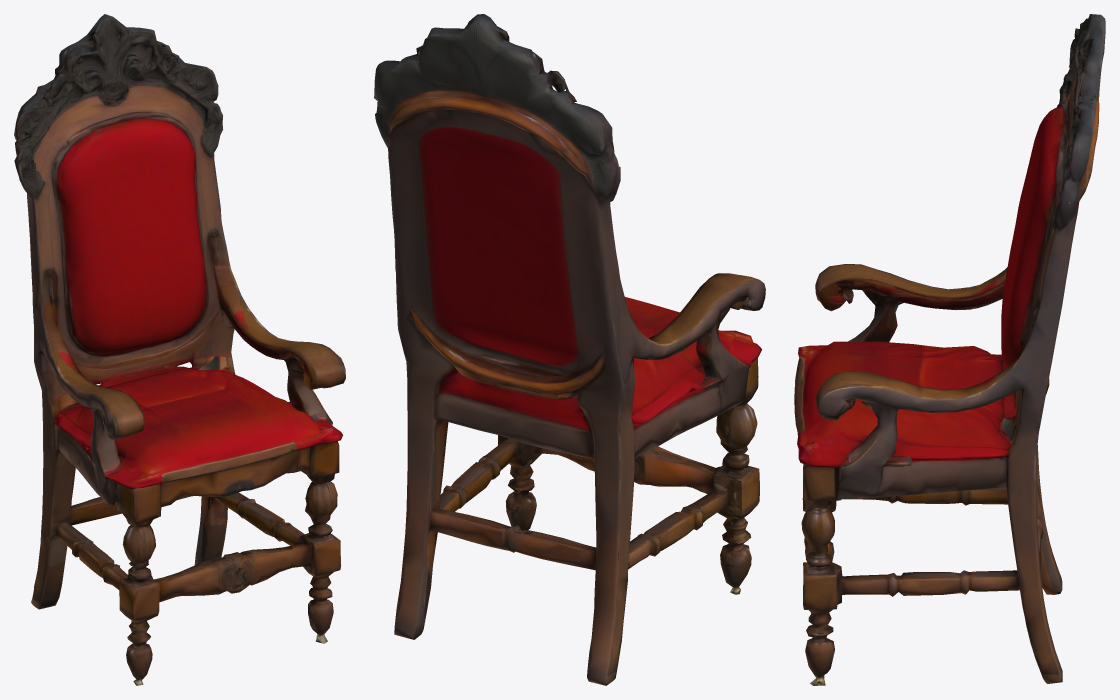
Rendered from fancy chair.glb.
3 renders of one model, left to right at view 1: azimuth 30°, elevation 25°; view 2: azimuth 150°, elevation 25°; view 3: azimuth 270°, elevation 25°, orthographic. The views are drawn at different scales.
Bounding box in the file's own units: 0.8676 × 1.99 × 0.9054.
Materials: 1 (1 with a texture image).
